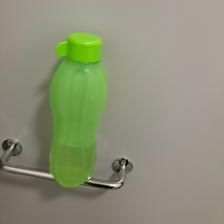bottle: (45, 31, 107, 189)
